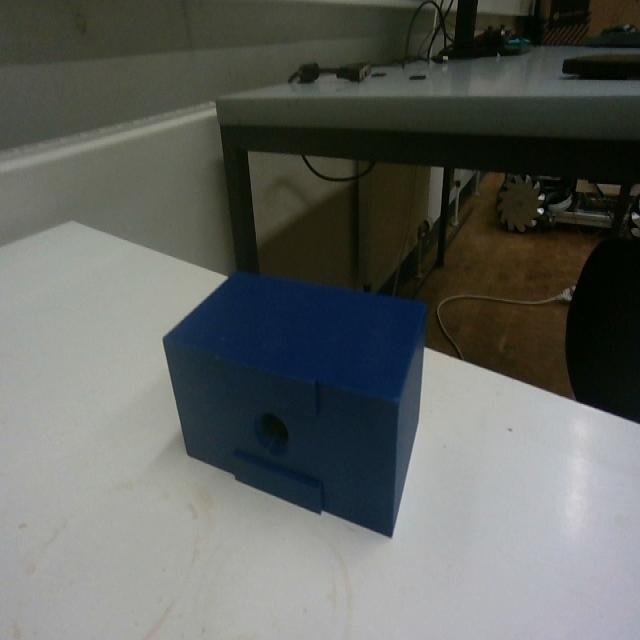Blue Cuboid: (160, 264, 430, 539)
